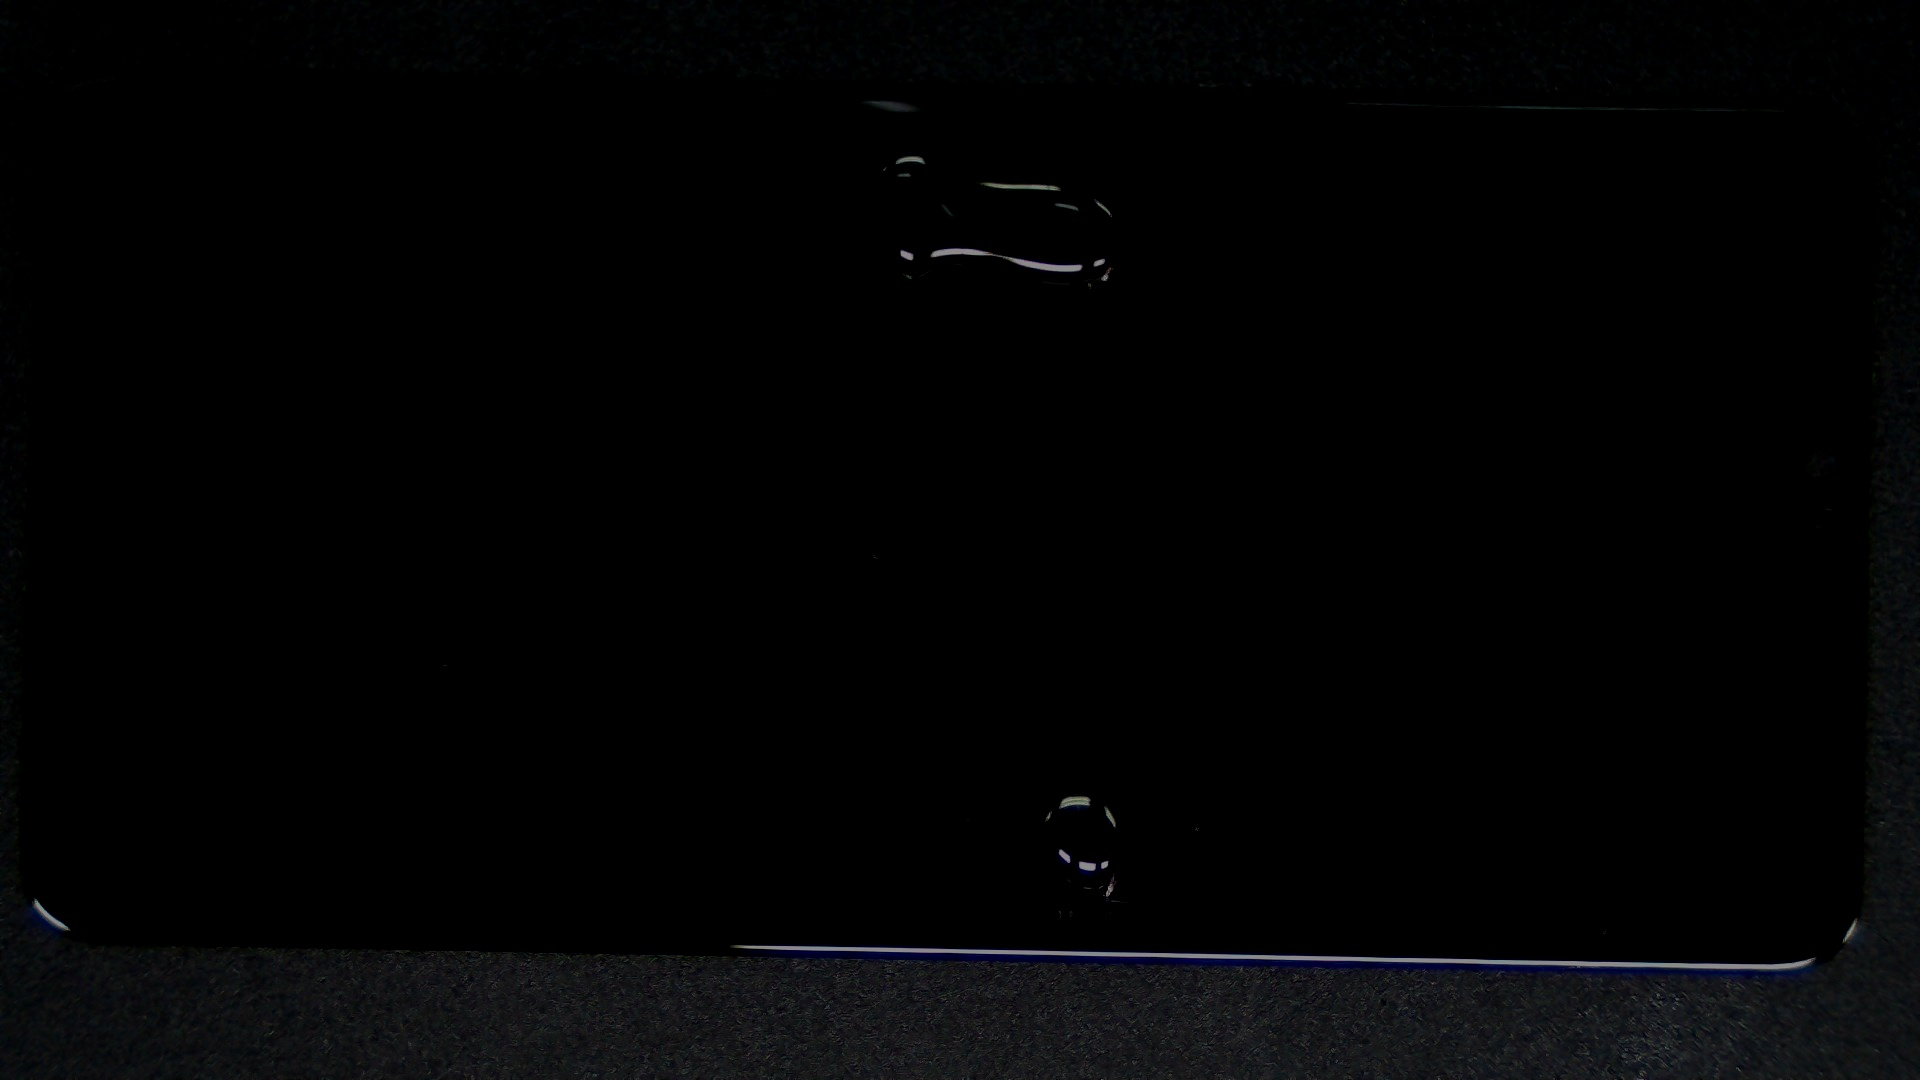oil: (543, 389, 1627, 1080), (463, 74, 1387, 225)
